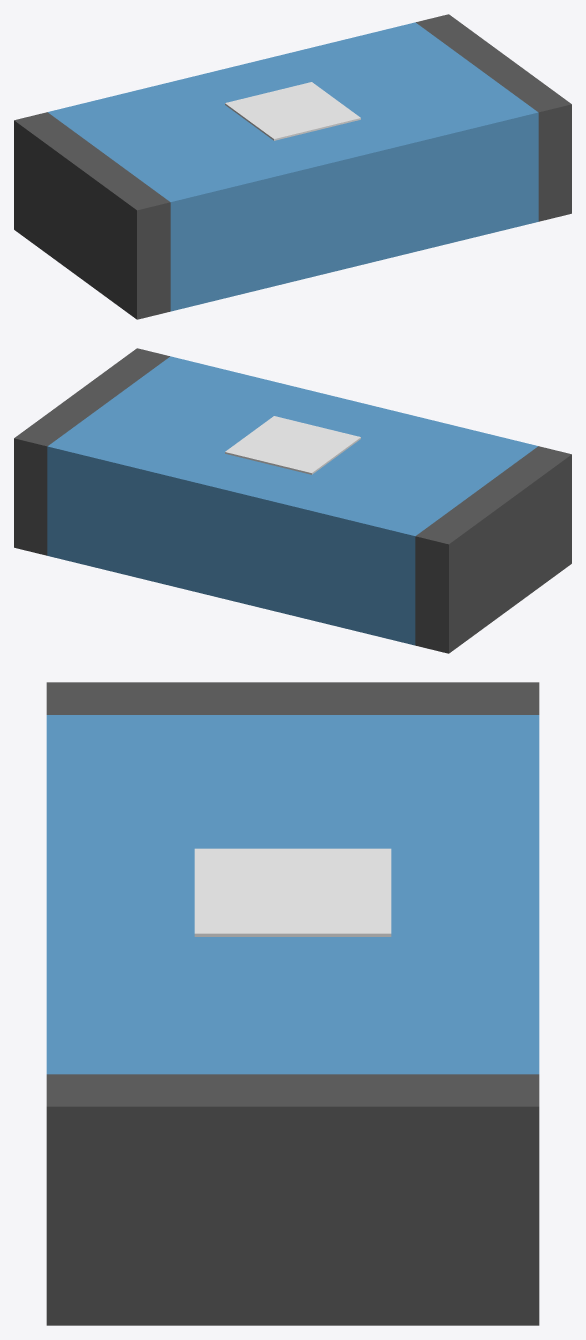
Rendered from inverter-multiplusc.glb.
3 views of the same model, one above another, from view 1: azimuth 30°, elevation 25°; view 2: azimuth 150°, elevation 25°; view 3: azimuth 270°, elevation 25° (orthographic). The views are drawn at different scales.
Bounding box in the file's own units: 520 × 127 × 255.
